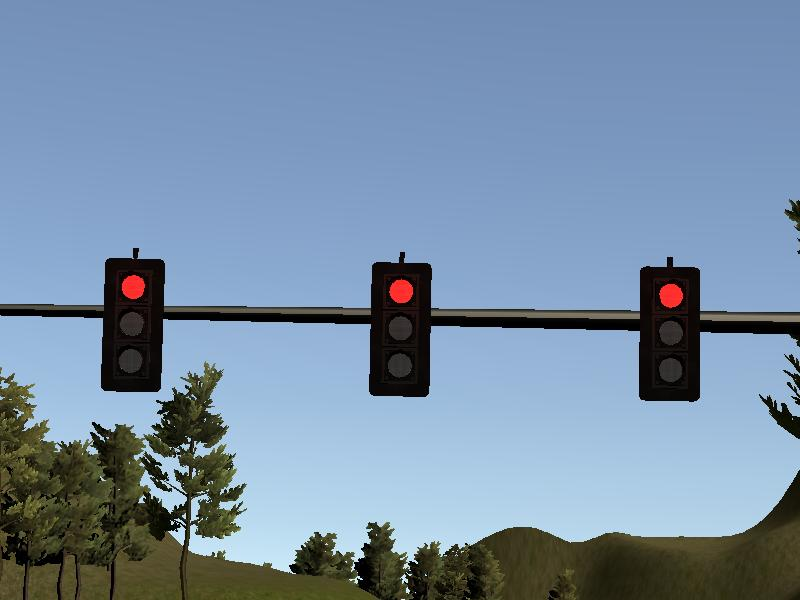red: (103, 258, 161, 392), (372, 261, 430, 395), (640, 266, 698, 400)
